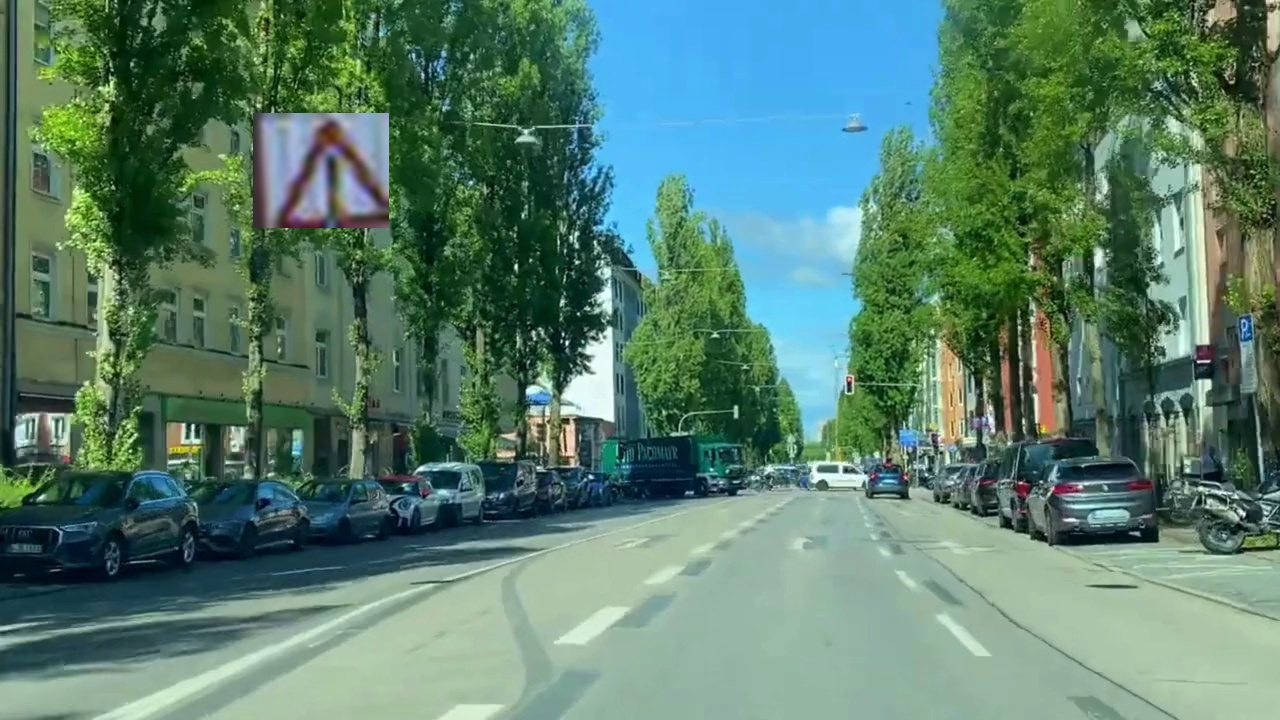Caution: (253, 113, 389, 228)
